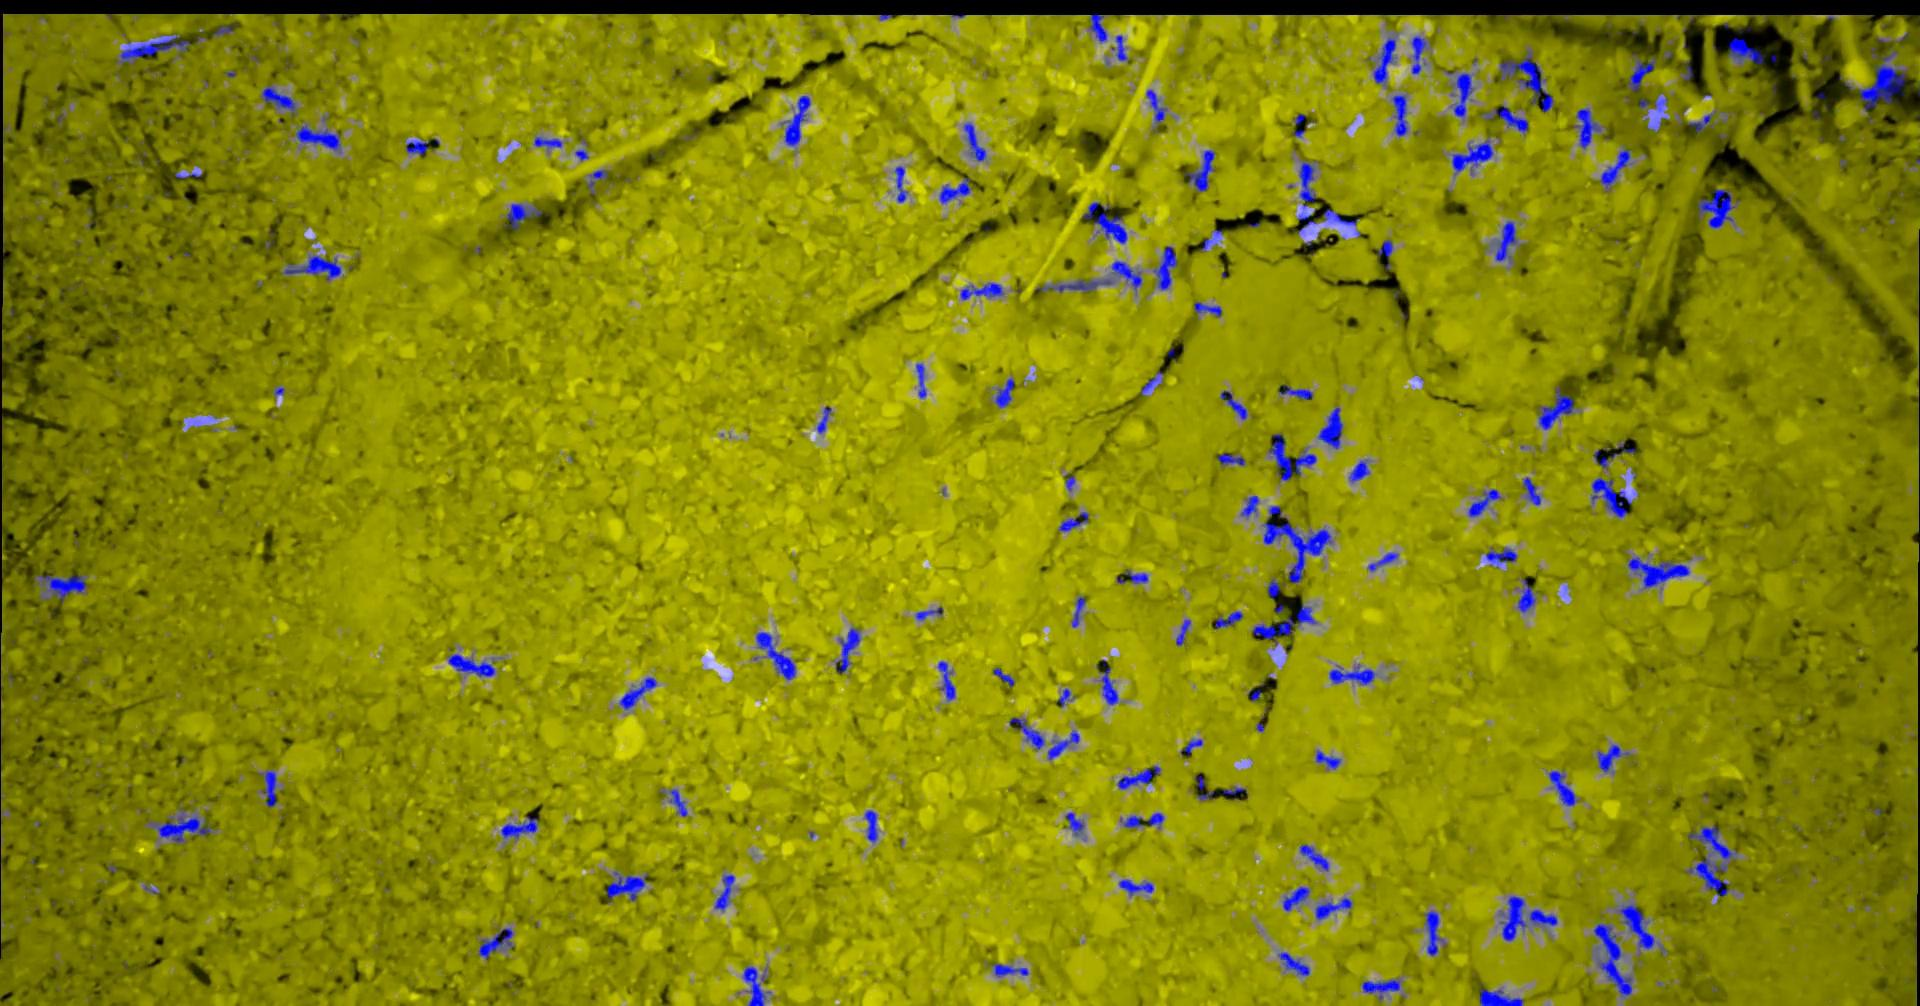ant: (1501, 50, 1556, 111), (1595, 923, 1633, 998), (1255, 605, 1318, 645), (1270, 433, 1318, 480), (152, 808, 213, 843), (121, 33, 190, 64), (1629, 556, 1691, 588), (757, 631, 797, 680), (1083, 201, 1129, 243), (1620, 903, 1656, 950), (36, 570, 88, 602), (1699, 188, 1740, 227), (1592, 478, 1633, 517), (1540, 385, 1575, 429), (782, 95, 811, 146), (1453, 138, 1495, 173), (283, 255, 342, 279), (1482, 105, 1530, 132), (607, 871, 649, 902), (1601, 149, 1633, 188), (297, 124, 342, 152), (1595, 439, 1637, 469), (1010, 716, 1046, 749), (620, 677, 658, 709), (1187, 150, 1217, 191), (1501, 895, 1528, 940), (1575, 107, 1603, 149), (479, 927, 516, 959), (837, 627, 862, 673), (1374, 37, 1397, 85), (505, 203, 549, 229), (262, 85, 297, 116), (450, 654, 497, 677), (1117, 765, 1162, 789), (1629, 53, 1657, 91), (1037, 278, 1114, 292), (744, 967, 771, 1005), (1319, 406, 1343, 448), (1730, 36, 1765, 64), (1550, 770, 1578, 805), (1156, 246, 1178, 290), (1481, 983, 1525, 1005), (1330, 663, 1377, 683), (1147, 89, 1168, 132), (1112, 260, 1143, 291), (1049, 730, 1081, 760), (1469, 488, 1502, 516), (1597, 744, 1630, 772), (1455, 72, 1476, 117), (965, 122, 988, 160), (1426, 909, 1445, 955), (1101, 659, 1120, 704), (502, 815, 538, 838), (1497, 220, 1517, 260), (1222, 390, 1250, 419), (941, 177, 971, 203), (1317, 897, 1352, 920), (1302, 843, 1330, 871), (1279, 951, 1310, 976), (938, 661, 957, 700), (1392, 94, 1410, 136), (662, 789, 690, 815), (1363, 979, 1401, 998), (716, 874, 737, 909), (961, 282, 1004, 298), (1302, 161, 1317, 207), (1519, 577, 1538, 612), (1284, 887, 1310, 909), (262, 770, 278, 807), (1125, 812, 1164, 827), (996, 377, 1016, 406), (1060, 511, 1090, 531), (1120, 879, 1156, 895), (1413, 36, 1429, 74), (1487, 547, 1517, 567), (1369, 553, 1399, 572), (1324, 208, 1359, 225), (1142, 371, 1164, 395), (1279, 384, 1314, 399), (589, 169, 610, 194), (1689, 113, 1716, 132), (1091, 13, 1109, 41), (1524, 478, 1542, 506), (1350, 459, 1371, 481), (1317, 749, 1342, 768), (993, 963, 1030, 976), (1065, 812, 1086, 835), (1217, 611, 1244, 627), (1196, 775, 1215, 799), (897, 166, 909, 202), (1530, 909, 1559, 925), (1117, 569, 1149, 583), (1073, 596, 1087, 627), (1112, 36, 1130, 60), (1195, 301, 1223, 316), (994, 667, 1016, 686), (818, 406, 833, 433), (1177, 619, 1192, 645), (866, 810, 879, 842), (917, 363, 928, 398), (1242, 495, 1260, 517), (408, 138, 430, 155), (1299, 213, 1318, 232), (1058, 688, 1077, 708), (1182, 738, 1204, 754), (535, 136, 563, 149), (917, 606, 945, 619), (213, 23, 239, 36), (1218, 453, 1246, 465), (1224, 786, 1248, 799), (1379, 239, 1394, 257), (1269, 579, 1281, 597), (1250, 686, 1263, 701), (1065, 473, 1077, 490), (1656, 95, 1669, 111), (1685, 58, 1694, 80)
